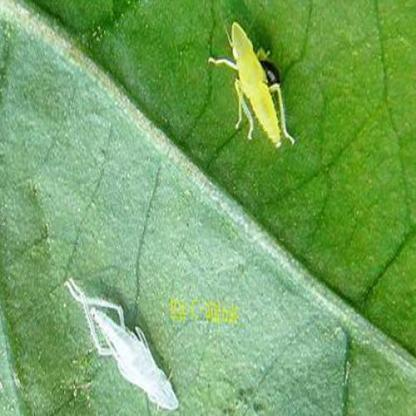green-leafhopper: (214, 7, 291, 150)
